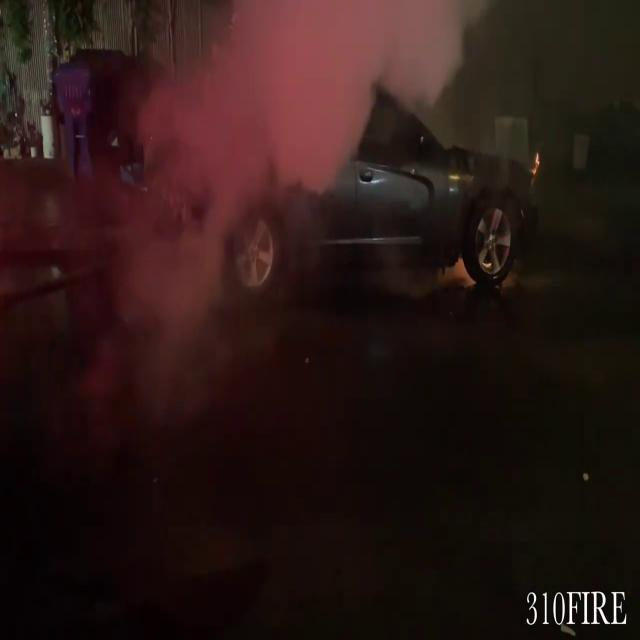Smoke: (169, 1, 495, 214)
